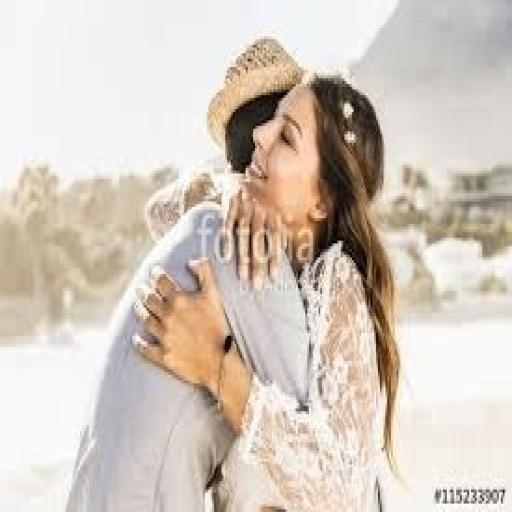hugging: (60, 36, 404, 510)
